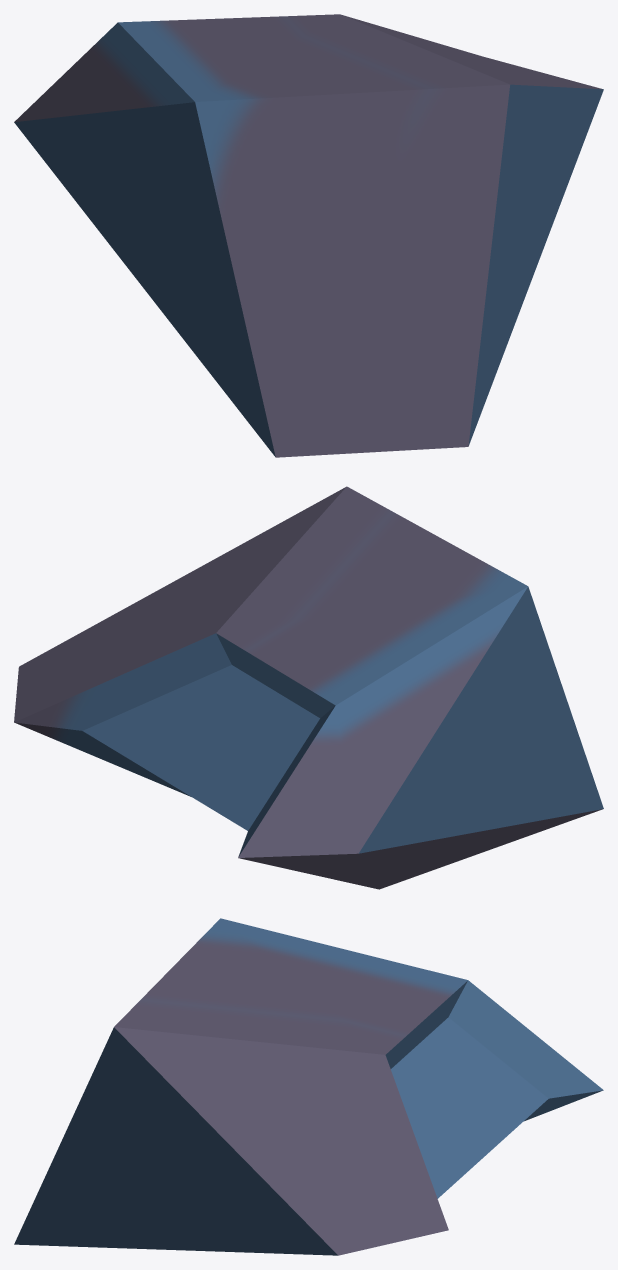
Rendered from leftThruster.obj.
The picture shows the model from 3 angles, top to bottom: view 1: azimuth 30°, elevation 25°; view 2: azimuth 150°, elevation 25°; view 3: azimuth 270°, elevation 25°; orthographic projection. The views are drawn at different scales.
Visible parts, largest first — view 1: thursterLeft_Circle.002; view 2: thursterLeft_Circle.002; view 3: thursterLeft_Circle.002.
Part boxes in pixels (x1,y1,x2,y2): thursterLeft_Circle.002: (14,14,603,457); thursterLeft_Circle.002: (14,486,603,889); thursterLeft_Circle.002: (14,918,603,1255).
Size of the model in its own units: 0.3536 by 0.2104 by 0.433.
